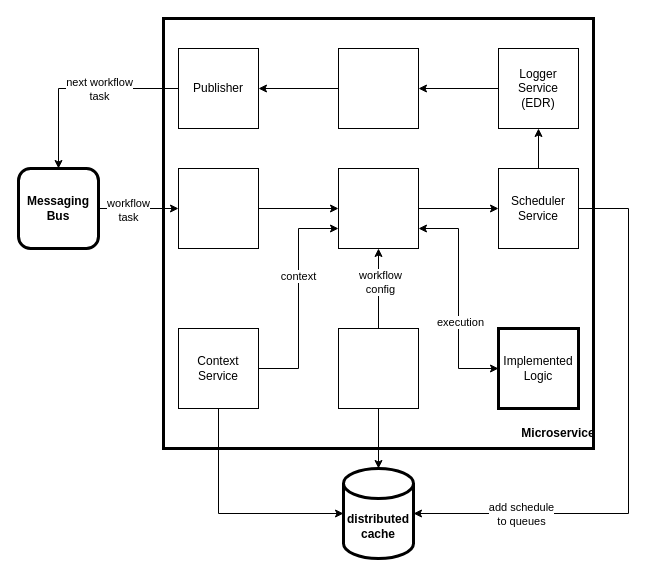
The diagram is 654 pixels wide and 577 high, and some of its shapes have lost their labels. Each missing label, with the box of its shape:
Config Service: (338, 328, 418, 408)
Consumer: (178, 168, 258, 248)
Metrics Service (snmp): (338, 48, 418, 128)
Process Executer: (338, 168, 418, 248)
